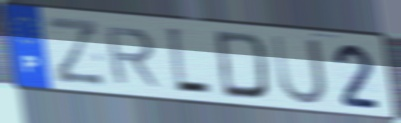2: (329, 38, 386, 112)
D: (213, 29, 272, 103)
L: (163, 24, 215, 99)
R: (102, 25, 162, 89)
U: (269, 32, 330, 107)
Z: (44, 14, 109, 88)
